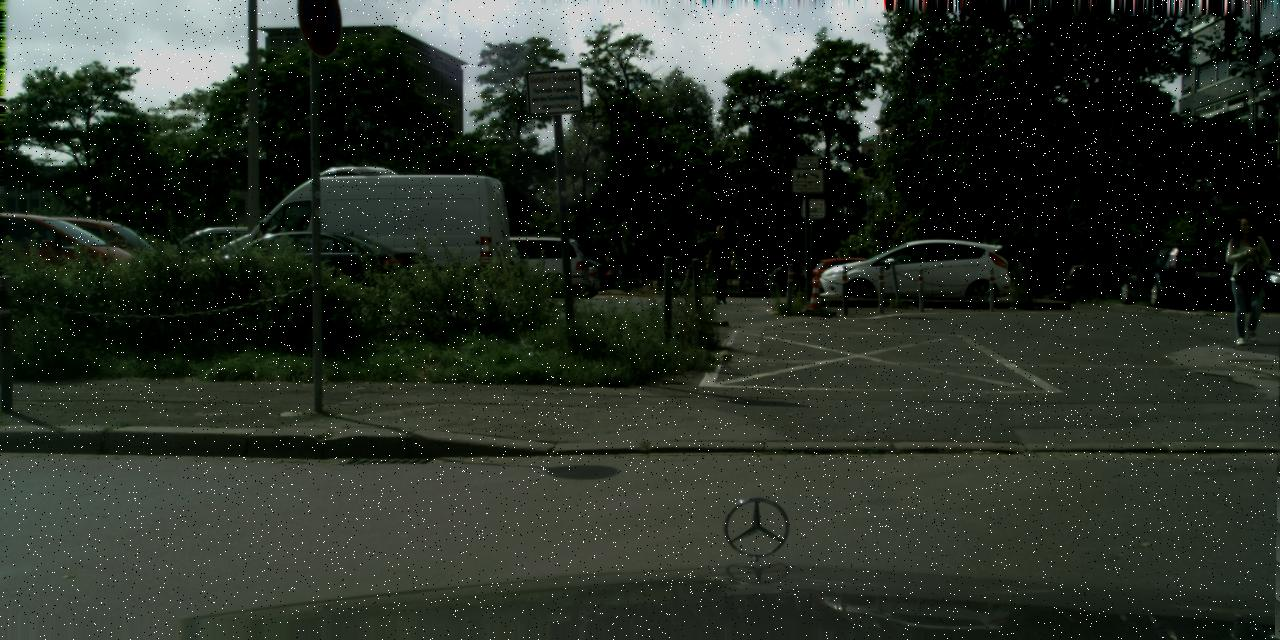ped: (1220, 214, 1272, 340), (704, 224, 737, 305)
